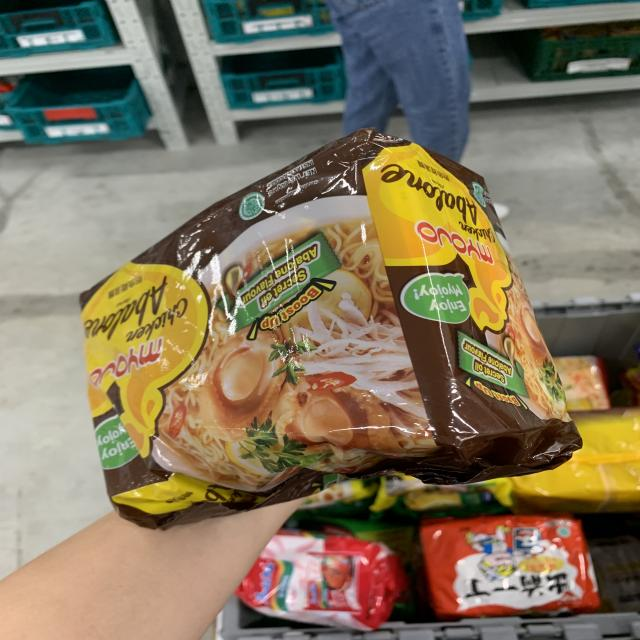object_name: (82, 173, 529, 478)
